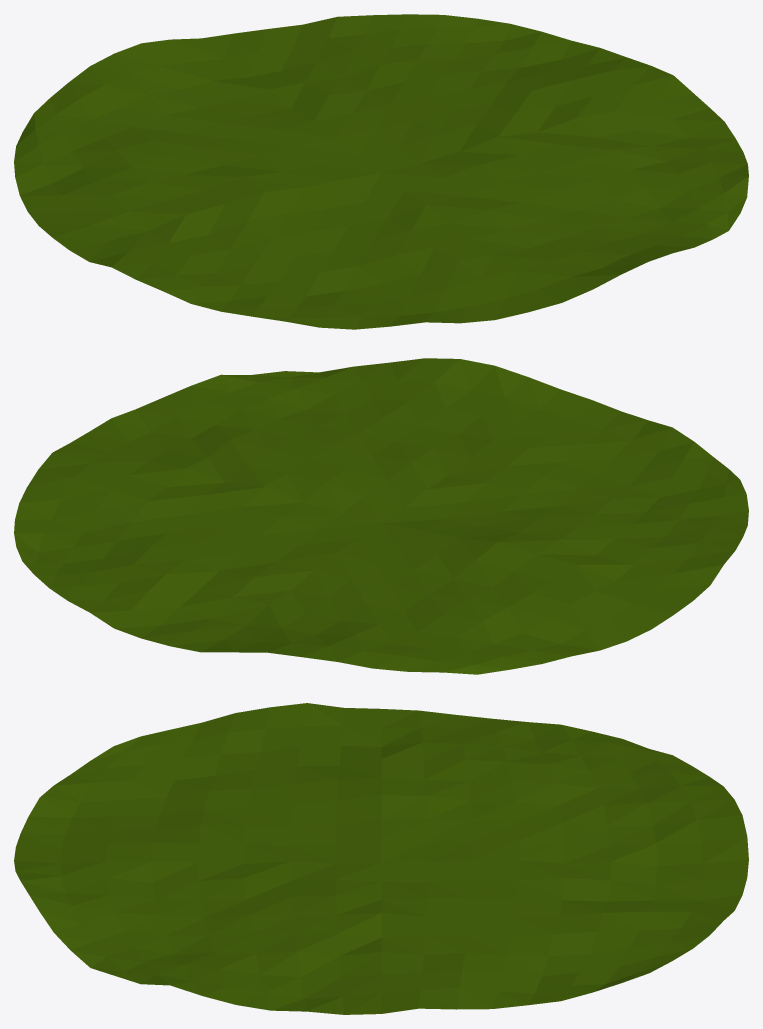
Rendered from Ground_Plane.fbx.
3 views of the same model, one above another, from view 1: azimuth 30°, elevation 25°; view 2: azimuth 150°, elevation 25°; view 3: azimuth 270°, elevation 25° (orthographic). The views are drawn at different scales.
Visible parts, largest first — view 1: Ground_Plane; view 2: Ground_Plane; view 3: Ground_Plane.
Part boxes in pixels (x1,y1,x2,y2): Ground_Plane: [14, 14, 748, 329]; Ground_Plane: [14, 358, 748, 674]; Ground_Plane: [14, 703, 748, 1014].
Bounding box in the file's own units: 3180 × 107 × 3182.
